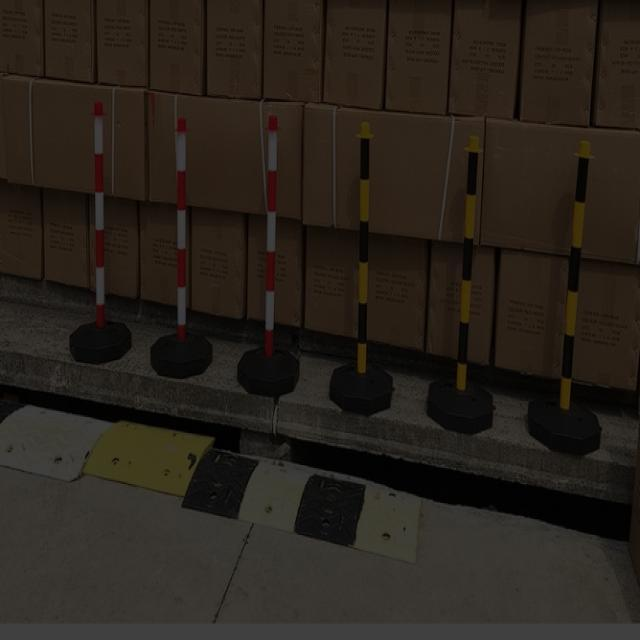Bollard: (548, 135, 600, 412), (448, 127, 486, 404), (346, 110, 378, 376), (166, 106, 196, 342), (86, 92, 112, 336), (260, 108, 282, 356)
